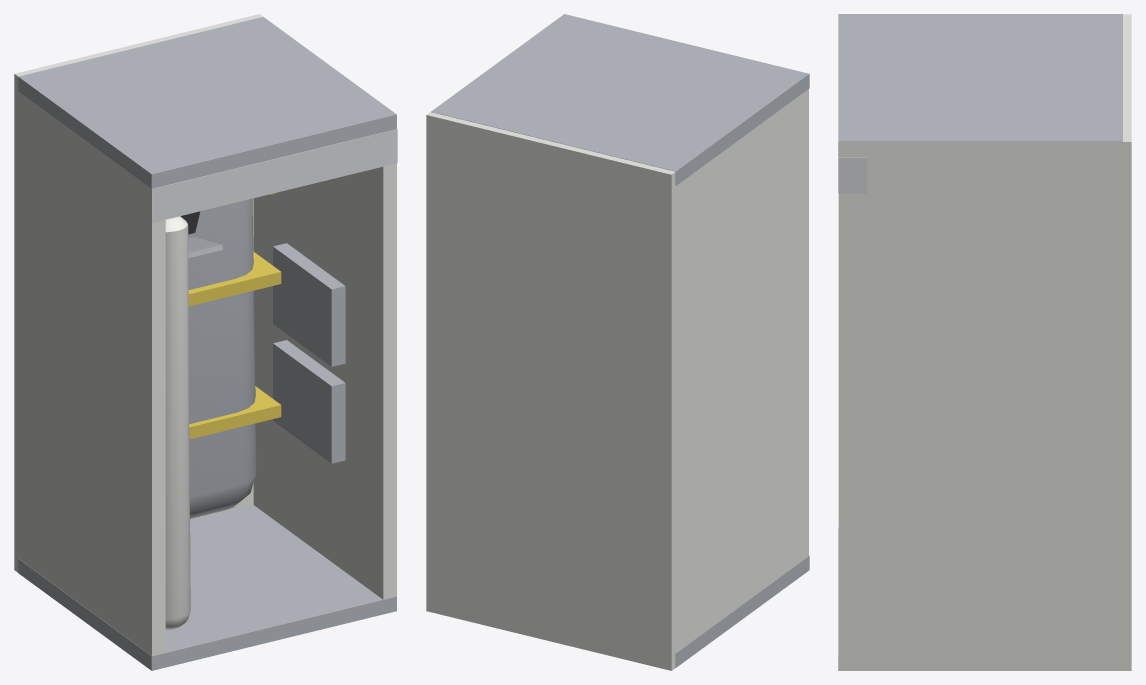
The model's file is orbital-station-and-docking-bays-sleep-station-6b4e0abe__24573.glb.
3 views of the same model, side by side, from view 1: azimuth 30°, elevation 25°; view 2: azimuth 150°, elevation 25°; view 3: azimuth 270°, elevation 25° (orthographic). The views are drawn at different scales.
Parts seen in each view (by area): view 1: sleep-station; view 2: sleep-station; view 3: sleep-station.
Boxes of the visible parts, left/top/right/bottom form: sleep-station: left=14, top=14, right=397, bottom=670; sleep-station: left=426, top=14, right=809, bottom=670; sleep-station: left=838, top=14, right=1131, bottom=670.
Size of the model in its own units: 1.06 by 2.05 by 1.03.
